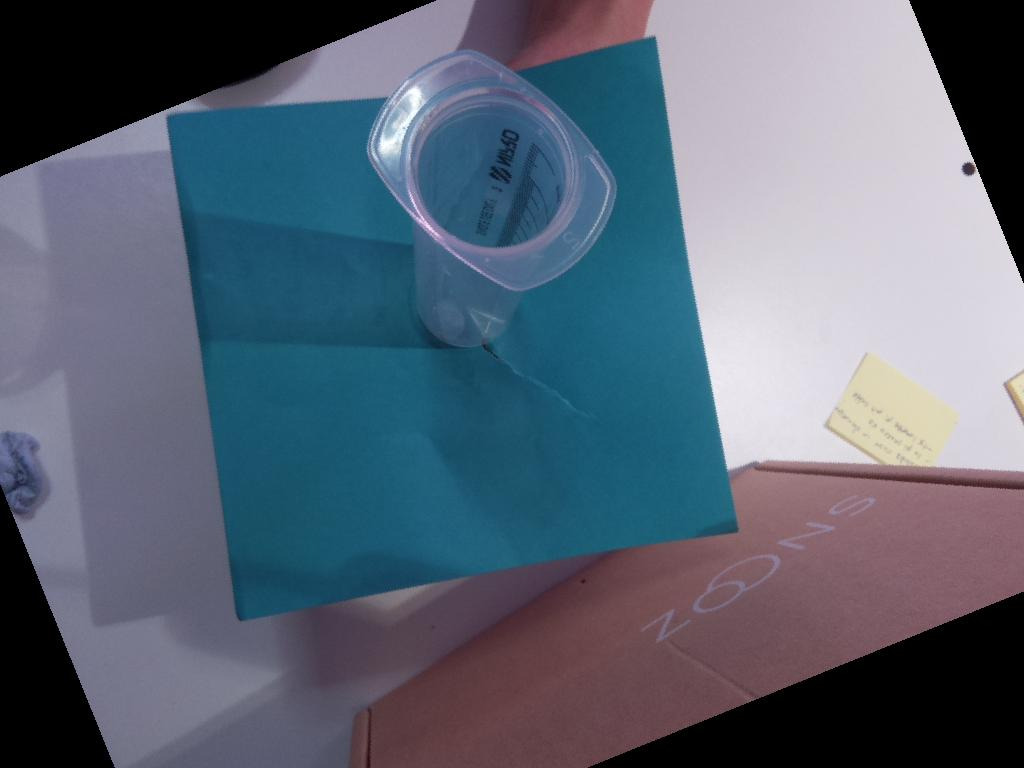clean: (364, 45, 619, 297)
